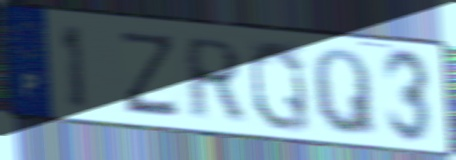1: (58, 22, 87, 113)
3: (380, 44, 435, 151)
Q: (309, 45, 379, 140), (246, 37, 313, 135)
R: (186, 35, 246, 122)
Z: (121, 28, 181, 119)
